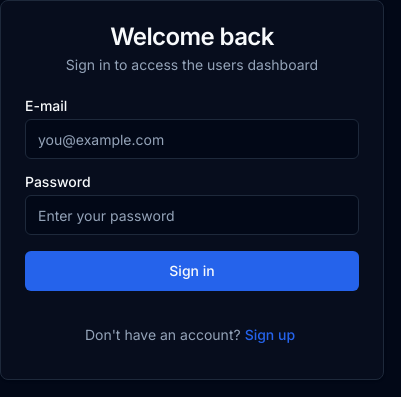
Test case: <LoginForm /> › disables the submit button while signing in
This screenshot has width=401, height=397.
Type "jane.cooper@example.com" into the field labelled "E-mail".
click(192, 139); type("jane.cooper@example.com")  # box [25,119,359,159]
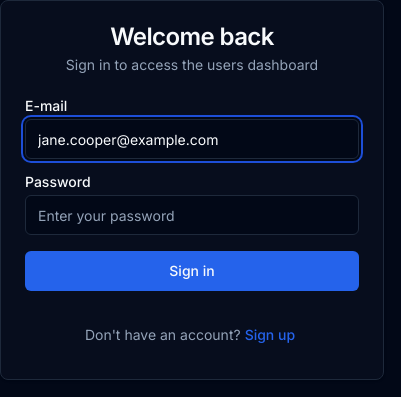
Type "Str0ng!Pass" into the password field labelled "Password".
click(192, 215); type("Str0ng!Pass")  # box [25,195,359,235]
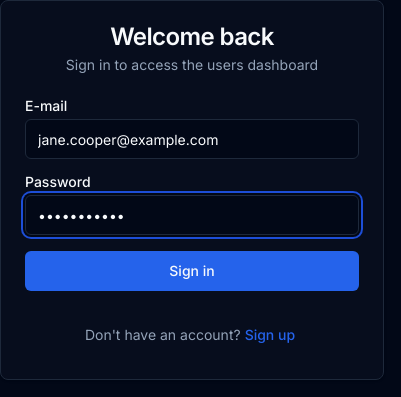
Click the button "Sign in".
click(192, 271)  # box [25,251,359,291]
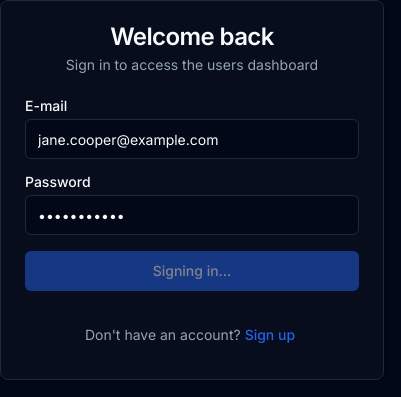
Now the button "Signing in..." is disabled, box [25,251,359,291]
